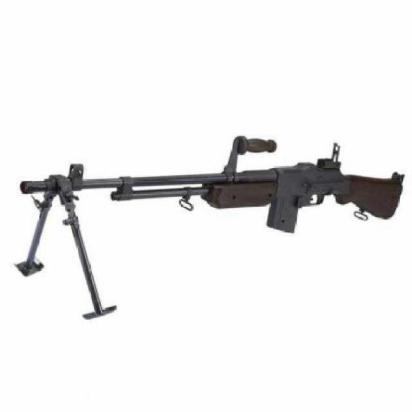Gun: (19, 137, 406, 233)
